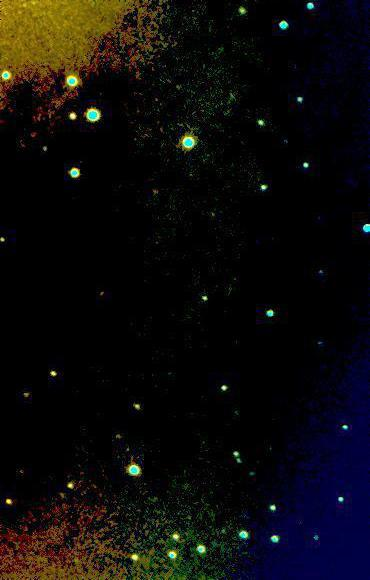star: (0, 489, 22, 519)
